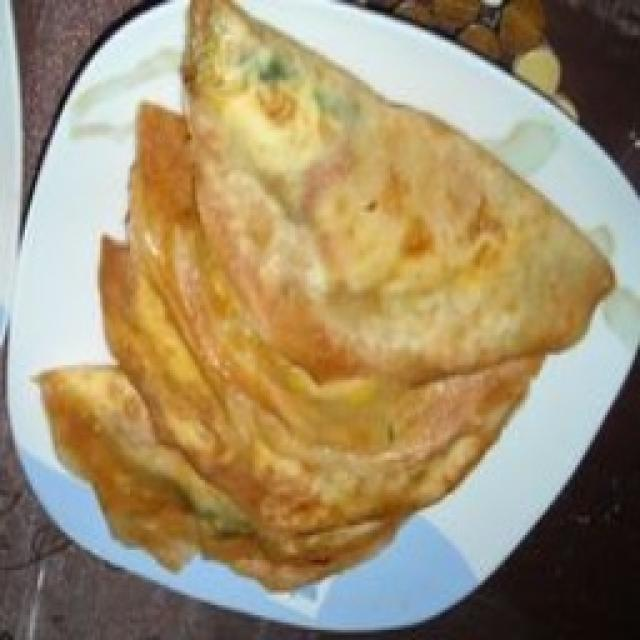Brik: (5, 0, 618, 598)
